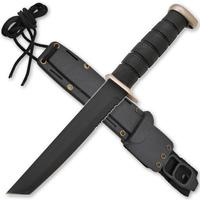knife: (5, 9, 191, 197)
